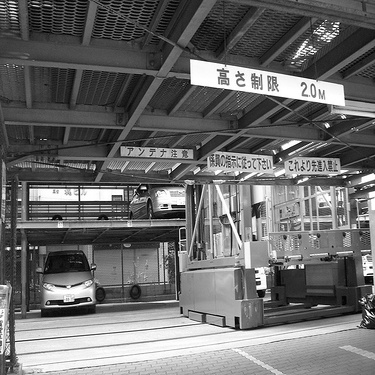car: (34, 260, 99, 321), (115, 182, 197, 221), (204, 265, 269, 303)
